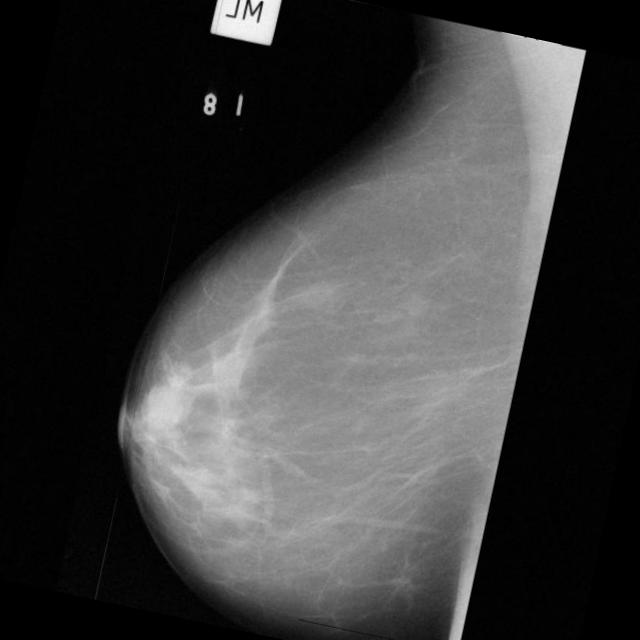SPIC: (382, 562, 419, 602)
